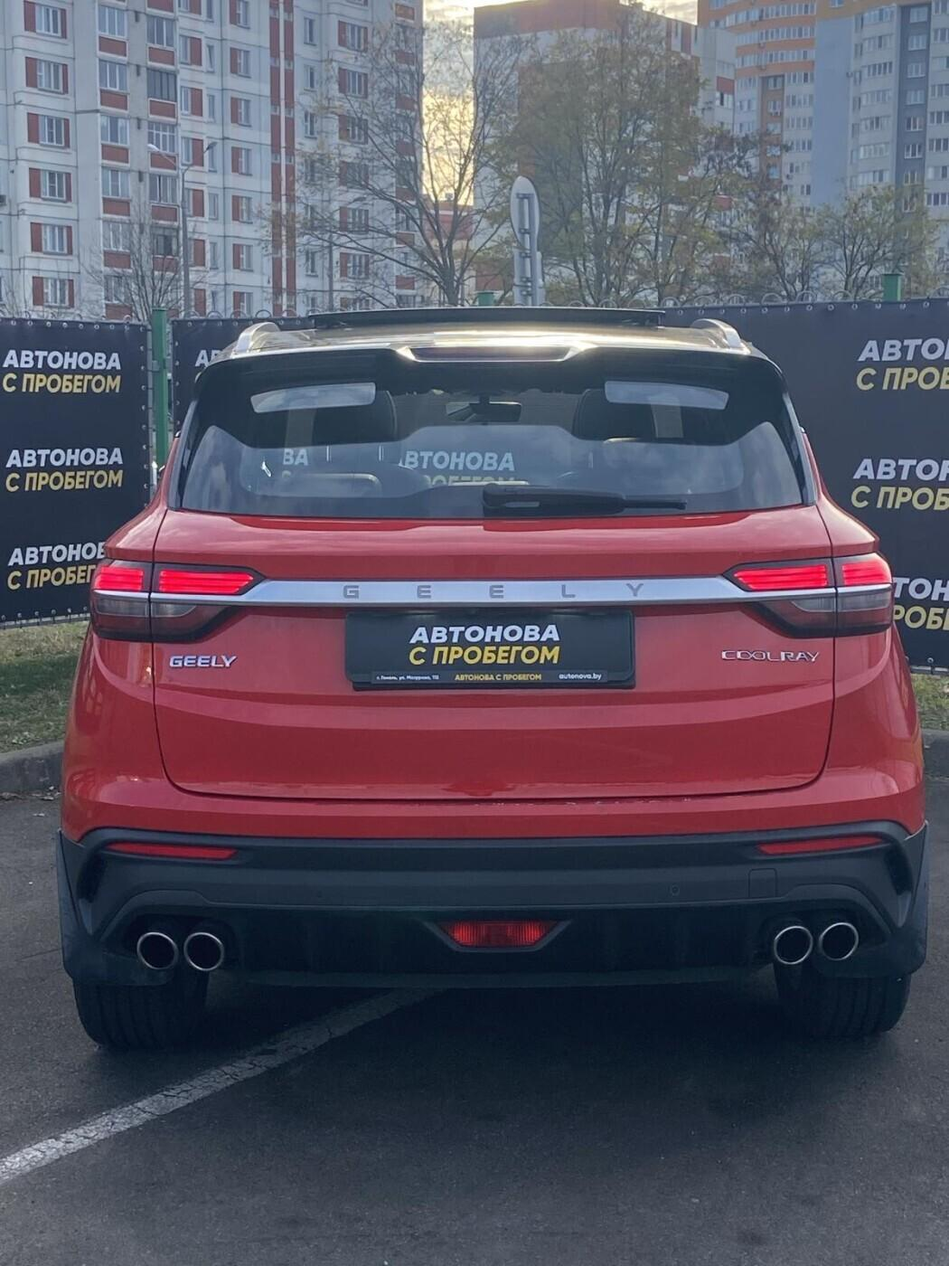Coolray_2019-2023: (56, 317, 933, 1063)
